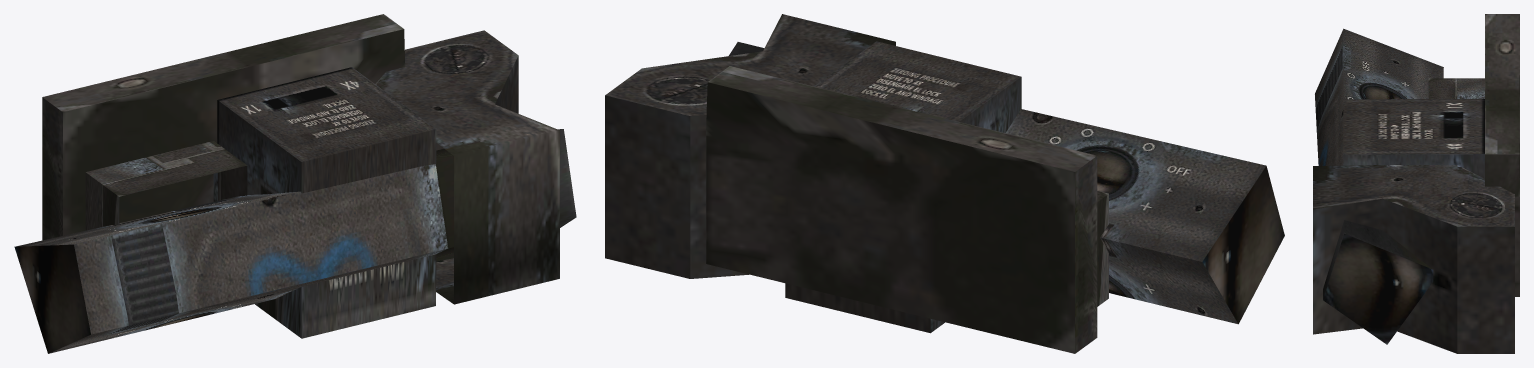
The model's file is t6_attach_optic_specter_world_LOD2.obj.
The picture shows the model from 3 angles, left to right: view 1: azimuth 30°, elevation 25°; view 2: azimuth 150°, elevation 25°; view 3: azimuth 270°, elevation 25°; orthographic projection. The views are drawn at different scales.
Parts seen in each view (by area): view 1: mtl_t6_attach_optic_specter_camo1; view 2: mtl_t6_attach_optic_specter_camo1; view 3: mtl_t6_attach_optic_specter_camo1.
Boxes of the visible parts, <box> form: mtl_t6_attach_optic_specter_camo1: <box>14,14,576,353</box>; mtl_t6_attach_optic_specter_camo1: <box>605,14,1284,353</box>; mtl_t6_attach_optic_specter_camo1: <box>1313,14,1519,353</box>.
Bounding box in the file's own units: 12.71 × 4.8 × 5.28.
